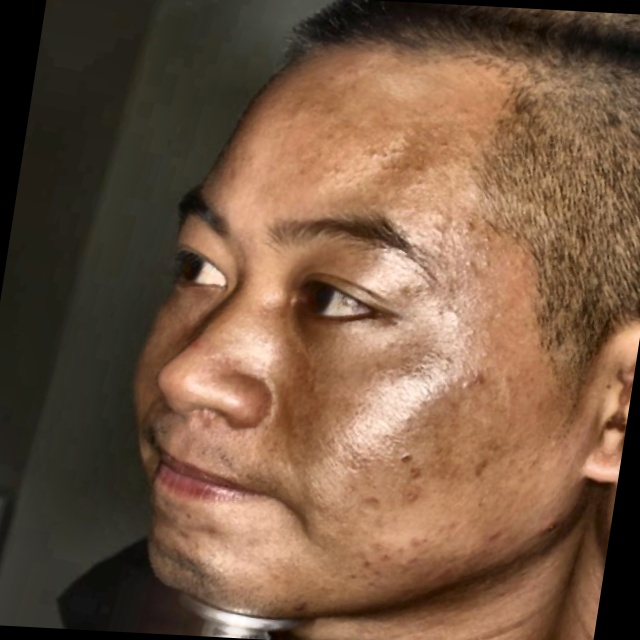comedone: (385, 483, 432, 512), (479, 516, 513, 554)
